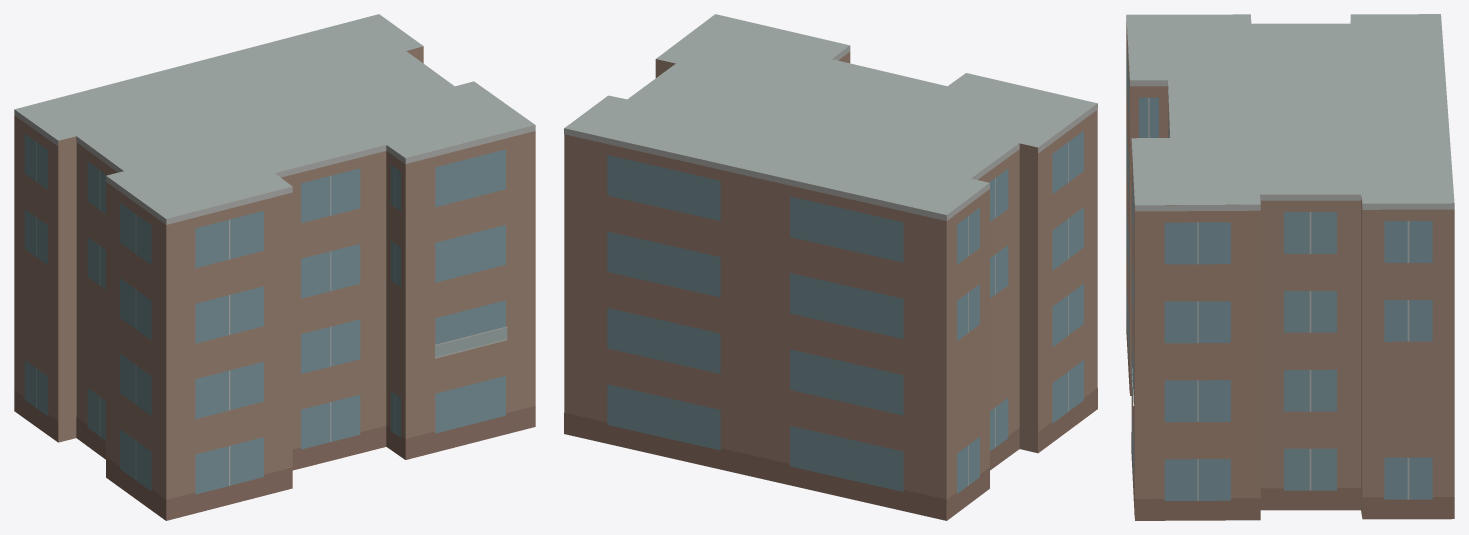
File: survey-upis-32538573.glb
3 views of the same model, side by side, from view 1: azimuth 30°, elevation 25°; view 2: azimuth 150°, elevation 25°; view 3: azimuth 270°, elevation 25° (orthographic). The views are drawn at different scales.
Parts seen in each view (by area): view 1: survey-upis-32538573.tmp; view 2: survey-upis-32538573.tmp; view 3: survey-upis-32538573.tmp.
Boxes of the visible parts, x1=… form: survey-upis-32538573.tmp: x1=14, y1=14, x2=535, y2=520; survey-upis-32538573.tmp: x1=564, y1=14, x2=1097, y2=520; survey-upis-32538573.tmp: x1=1126, y1=14, x2=1454, y2=520.
Bounding box in the file's own units: 16.26 × 12.5 × 11.79.
